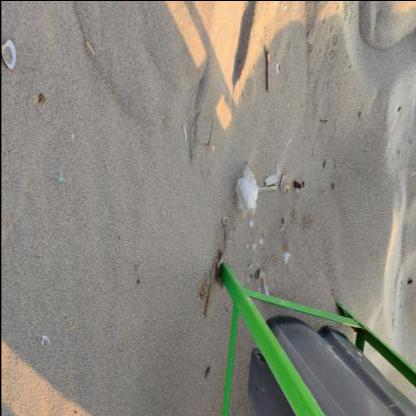Plastic bag - wrapper: (235, 160, 258, 218)
